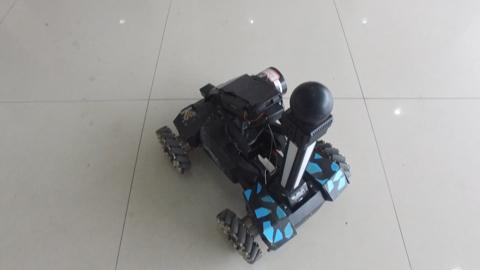chariot: (150, 73, 350, 250)
